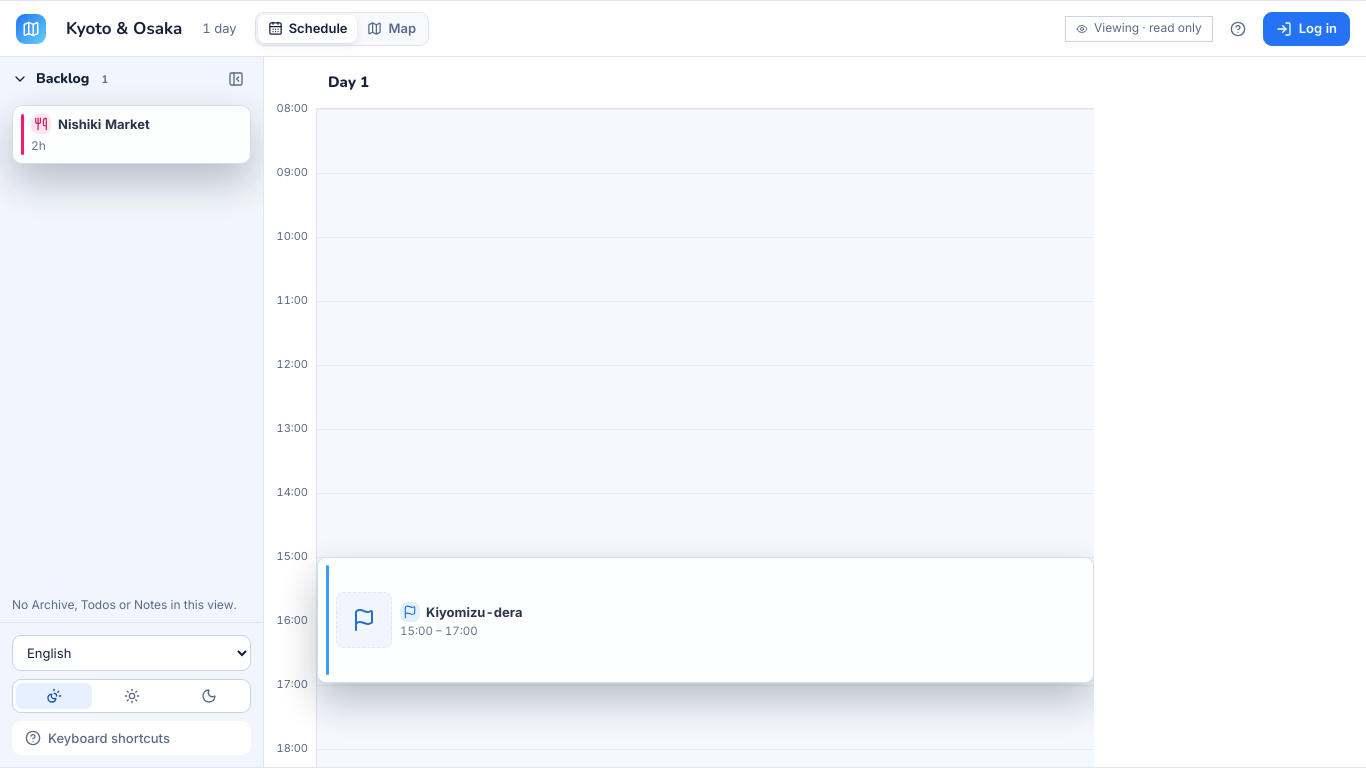
Scenario: a share link, opened without logging in › opens an Event as plain text with its description and contact, and closes it
Click the button "Kiyomizu-dera 15:00 – 17:00" at (364, 620), box [318, 558, 1093, 682]
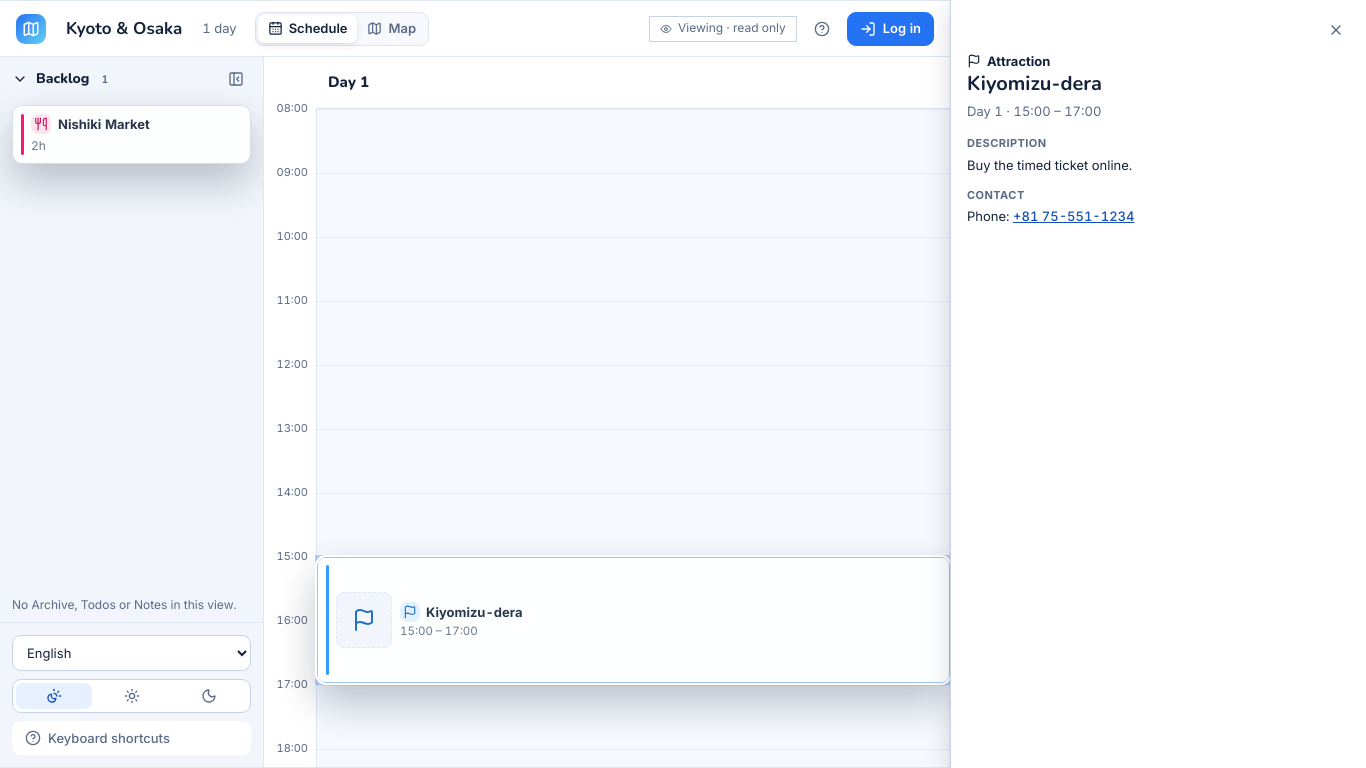
Expected: the heading "Kiyomizu-dera" is shown, [967, 70, 1102, 97]
Expected: the text "Buy the timed ticket online." is shown, [967, 157, 1132, 173]
Expected: the link "+81 75-551-1234" is shown, [1013, 208, 1134, 224]
Click the button named "Close details" at (1336, 30), box [1322, 16, 1350, 44]
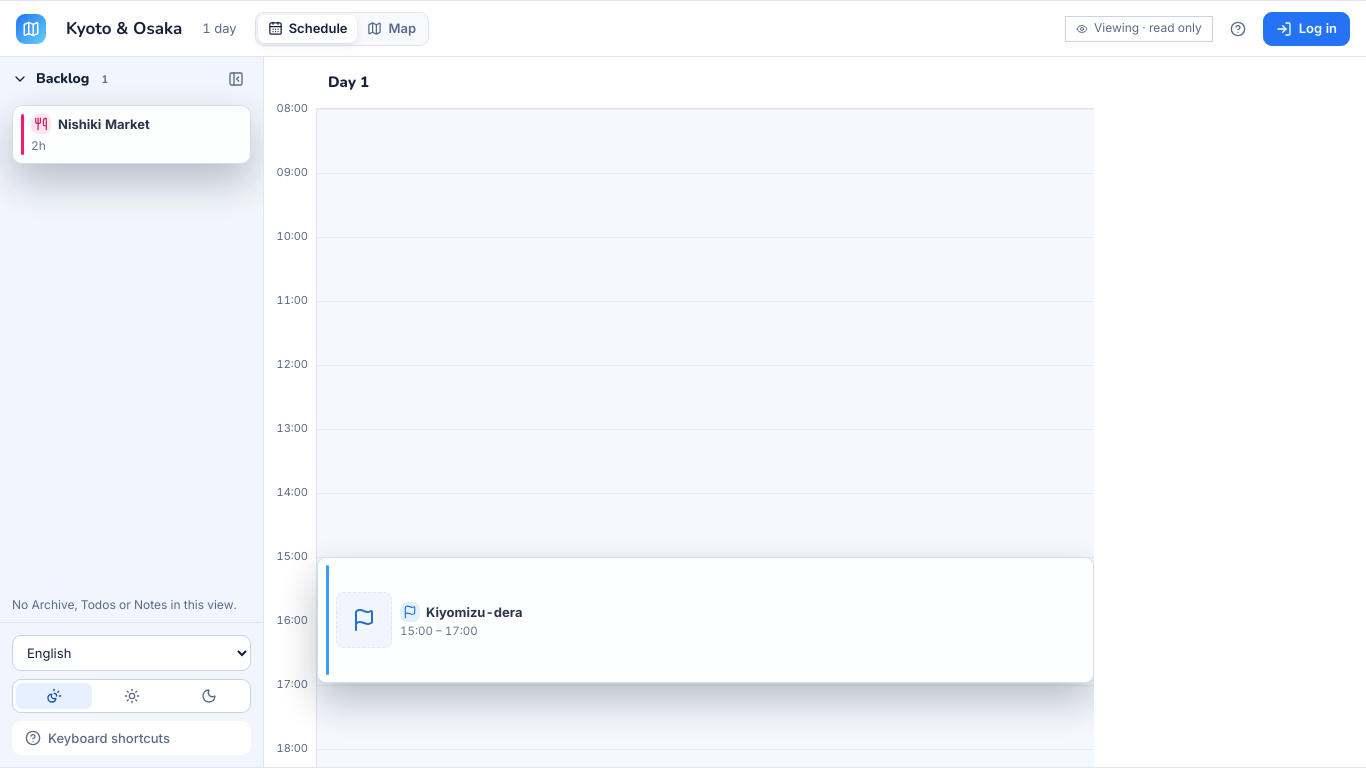
Expected: the element "Event" is gone
